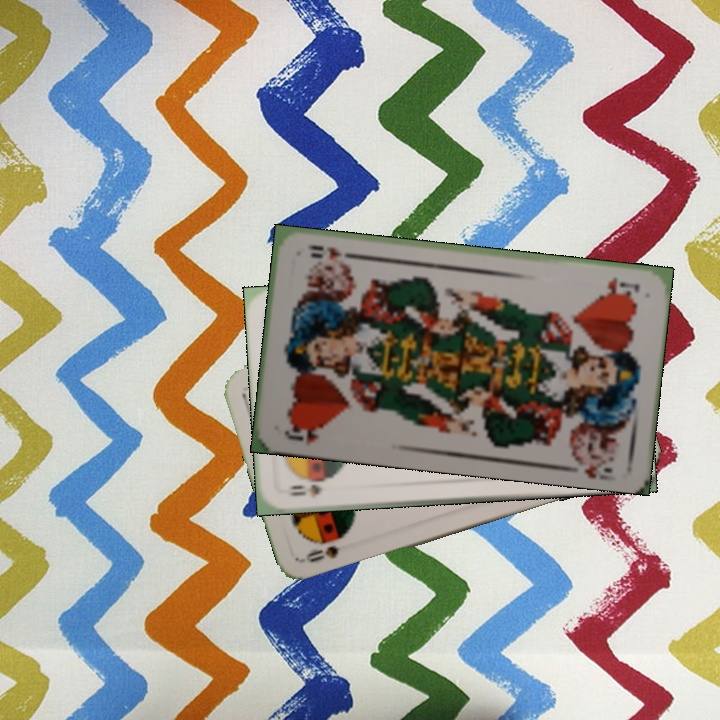HO: (280, 420, 327, 447), (603, 273, 643, 298)
SO: (302, 541, 342, 565), (280, 480, 325, 501)
